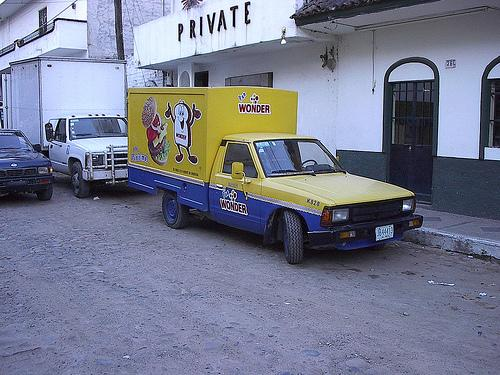truck: (126, 85, 424, 265)
